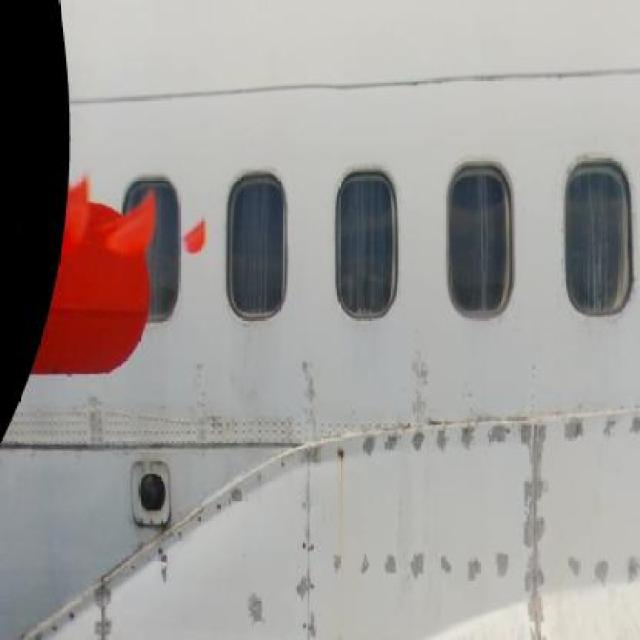Missing-Rivet: (38, 542, 214, 638), (520, 420, 548, 640), (334, 552, 506, 583), (358, 429, 514, 463), (167, 487, 251, 544), (300, 483, 322, 640), (564, 550, 639, 584), (560, 417, 640, 440)
Rust: (332, 436, 352, 556)
Scartch: (357, 420, 640, 486), (327, 539, 640, 593), (505, 406, 558, 640), (287, 443, 330, 640), (402, 317, 443, 431), (288, 340, 324, 469), (181, 356, 222, 452), (76, 386, 121, 457), (85, 551, 118, 640)
